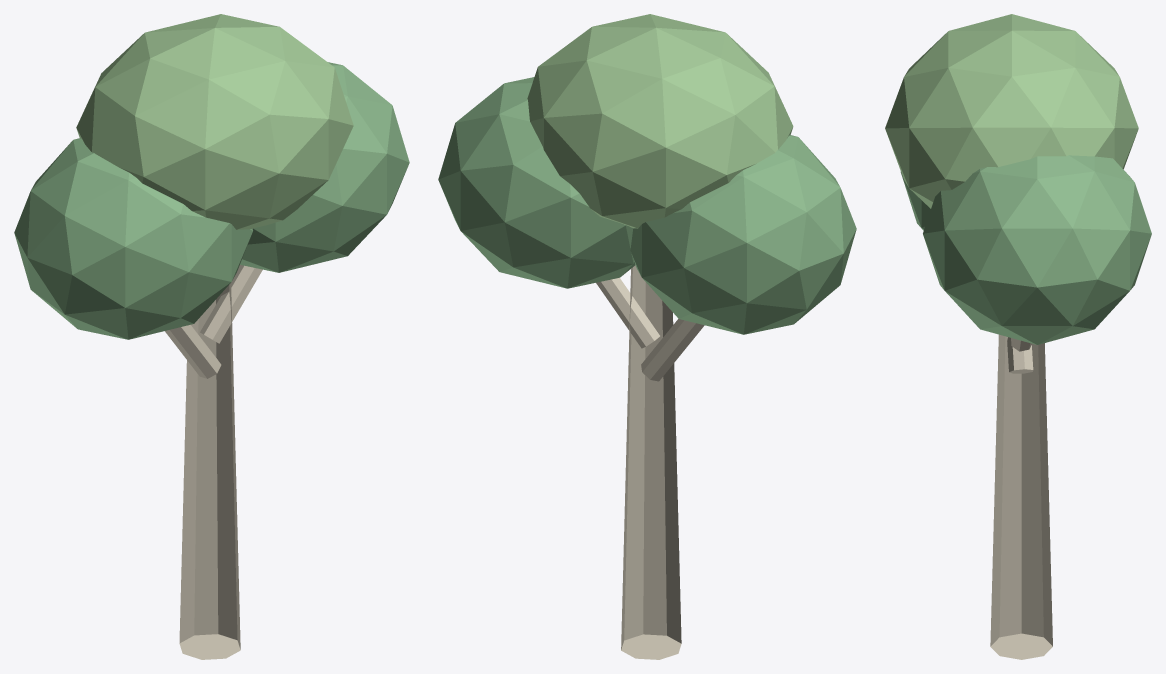
File: tree-young-a.glb
3 views of the same model, side by side, from view 1: azimuth 30°, elevation 25°; view 2: azimuth 150°, elevation 25°; view 3: azimuth 270°, elevation 25° (orthographic).
Parts seen in each view (by area): view 1: Canopy_3, Canopy_1, Trunk, Canopy_2, BranchRight, BranchLeft; view 2: Canopy_3, Canopy_1, Canopy_2, Trunk, BranchRight, BranchLeft; view 3: Canopy_2, Canopy_3, Trunk, BranchLeft, Canopy_1.
Boxes of the visible parts, box(x1,y1,x2,y2) form: Canopy_3: box(76, 14, 353, 229); Canopy_1: box(14, 138, 252, 339); Trunk: box(179, 283, 240, 659); Canopy_2: box(240, 62, 409, 272); BranchRight: box(200, 265, 262, 343); BranchLeft: box(165, 324, 221, 378); Canopy_3: box(527, 14, 793, 228); Canopy_1: box(630, 135, 856, 334); Canopy_2: box(438, 77, 634, 288); Trunk: box(621, 265, 681, 659); BranchRight: box(596, 278, 659, 348); BranchLeft: box(641, 319, 704, 381); Canopy_2: box(923, 155, 1151, 344); Canopy_3: box(885, 14, 1138, 208); Trunk: box(990, 334, 1052, 659); BranchLeft: box(1007, 337, 1033, 373); Canopy_1: box(900, 172, 930, 230).
Bounding box in the file's own units: 2.23 × 3.47 × 1.36.
